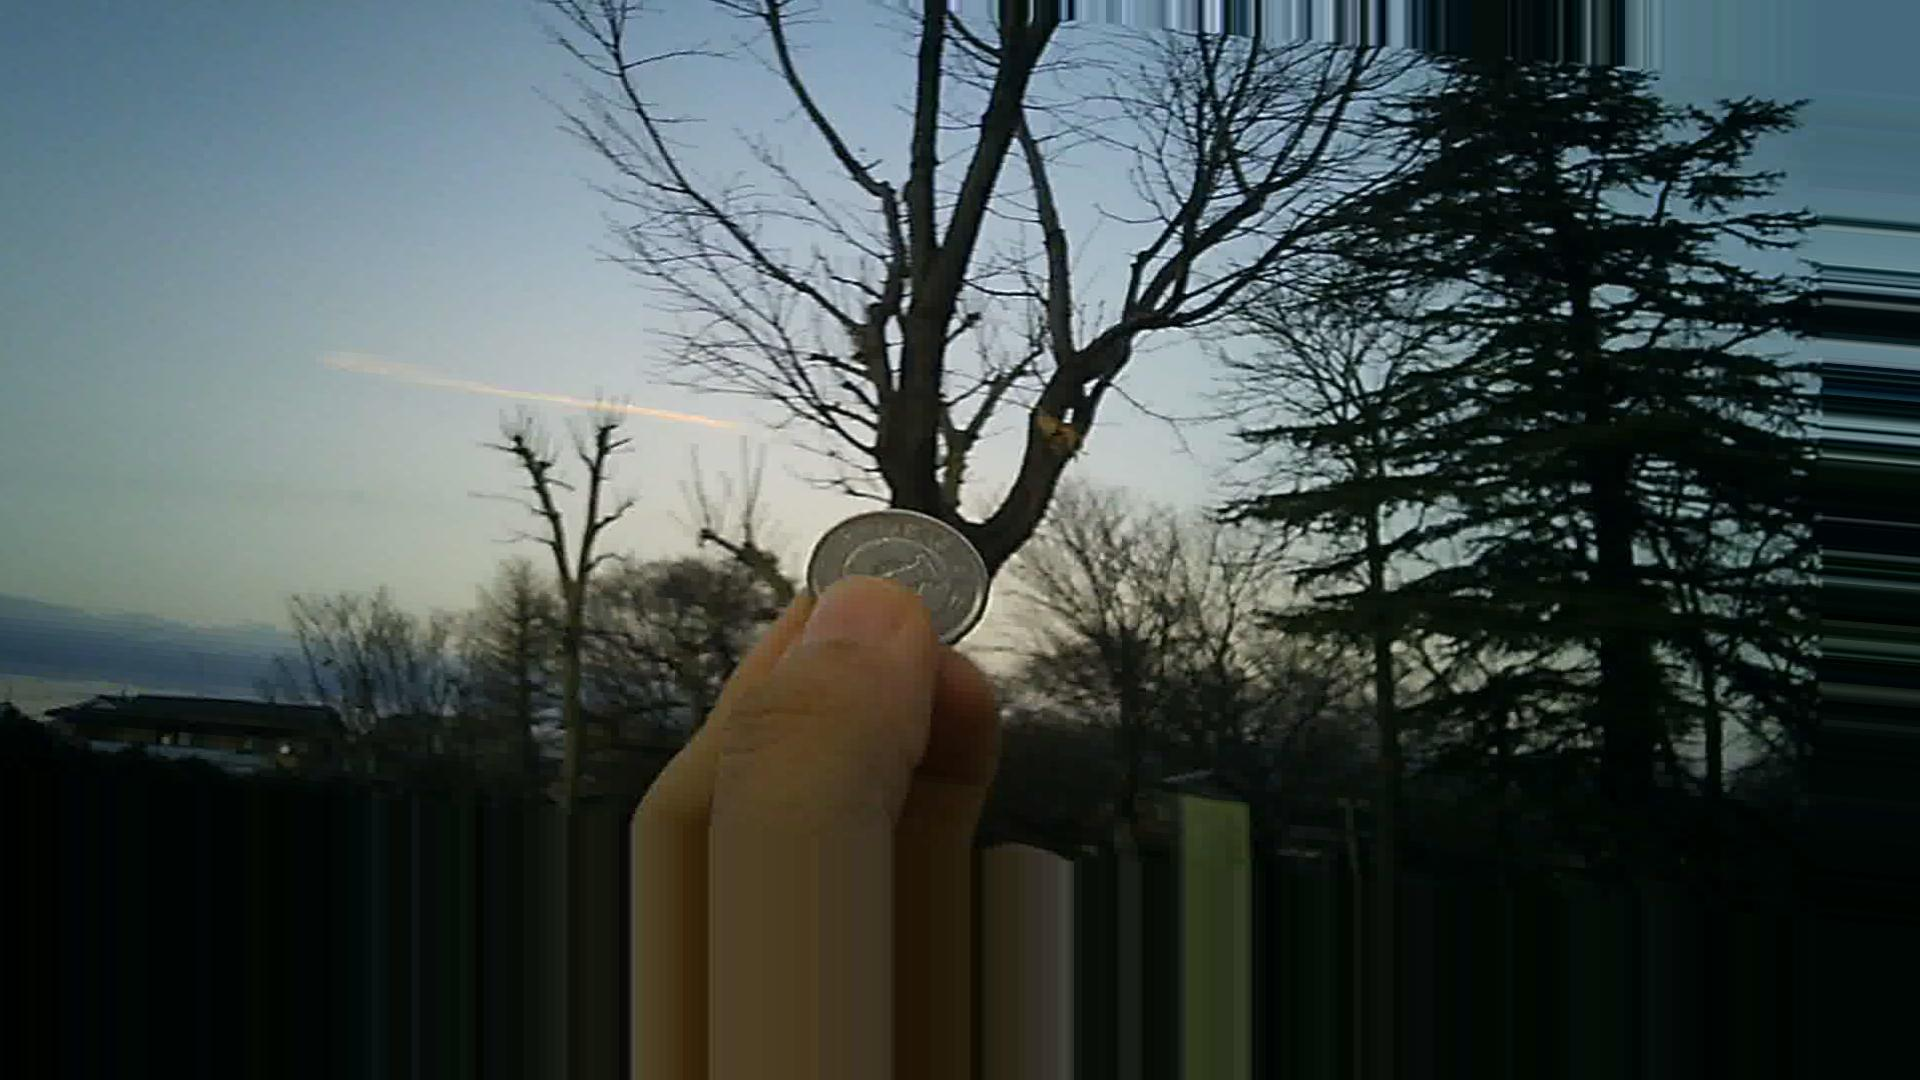1 Yen: (800, 491, 998, 655)
